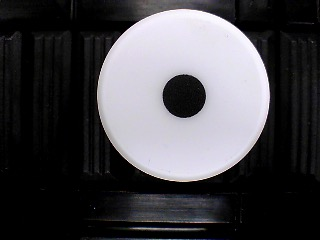BOHO: (95, 8, 271, 182)
